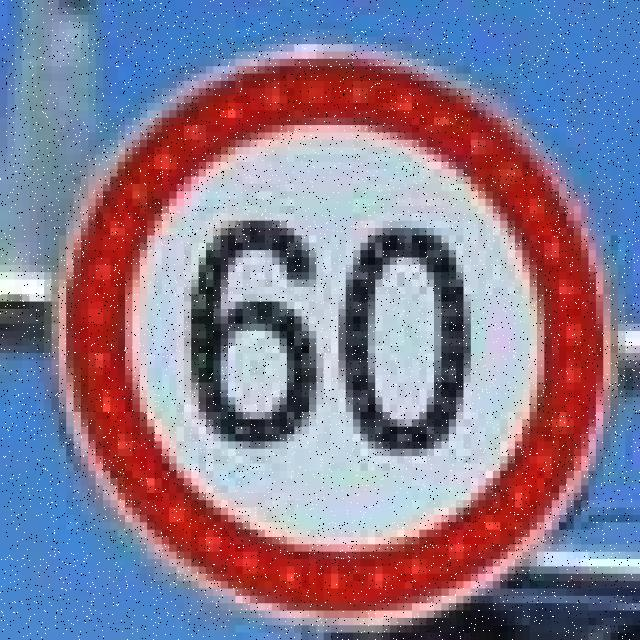Ograniczenie predkosci do 60: (51, 37, 604, 625)
